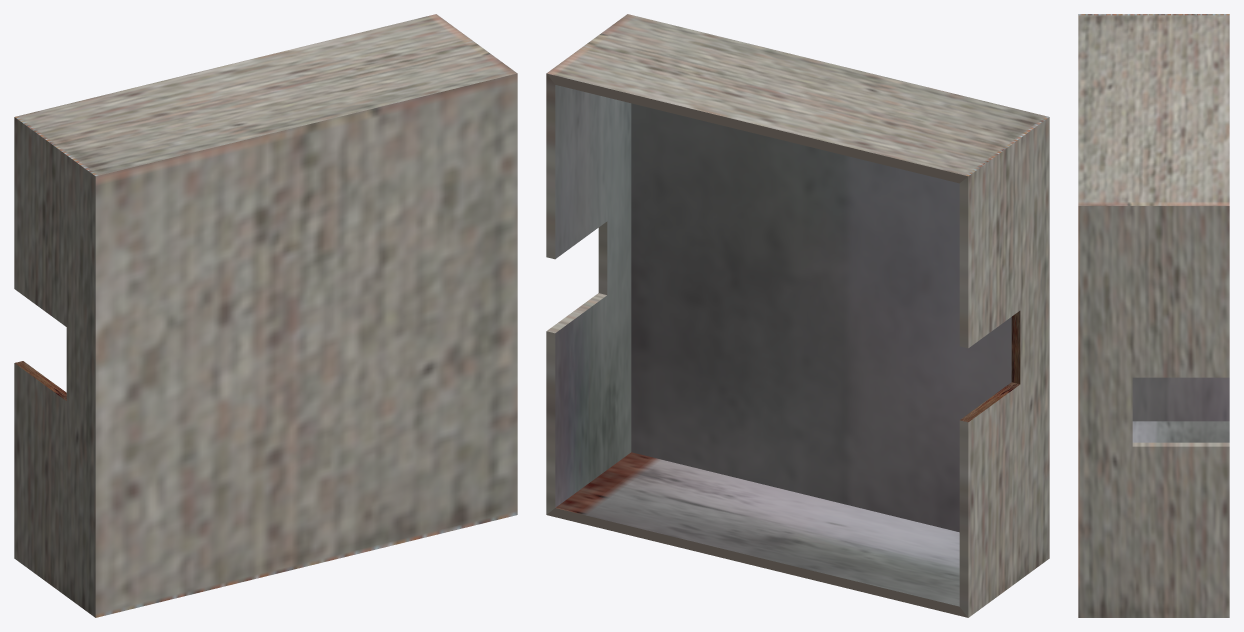
The model's file is 6x6EW_wtf.obj.
3 renders of one model, left to right at view 1: azimuth 30°, elevation 25°; view 2: azimuth 150°, elevation 25°; view 3: azimuth 270°, elevation 25°, orthographic. The views are drawn at different scales.
Visible parts, largest first — view 1: group2; view 2: group2; view 3: group2.
Boxes of the visible parts, x1,y1,x2,y2 form: group2: (14,14,517,617); group2: (546,14,1049,617); group2: (1078,14,1229,617).
Size of the model in its own units: 660 by 660 by 220.
